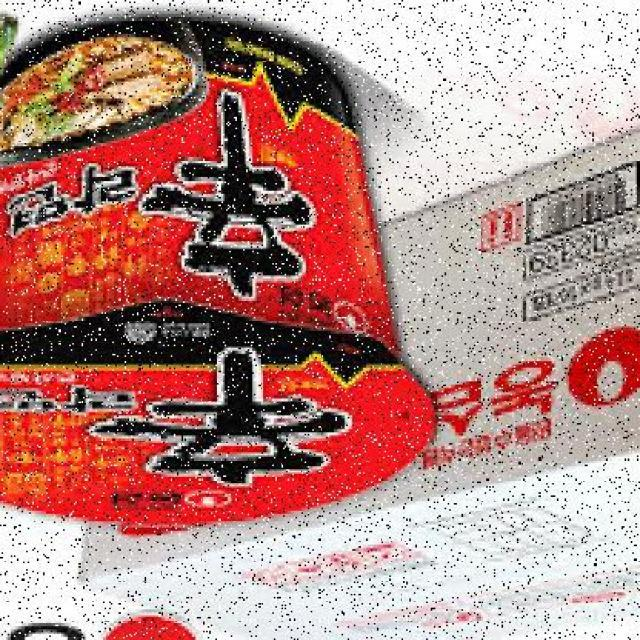Miscellaneous: (0, 27, 438, 532)
